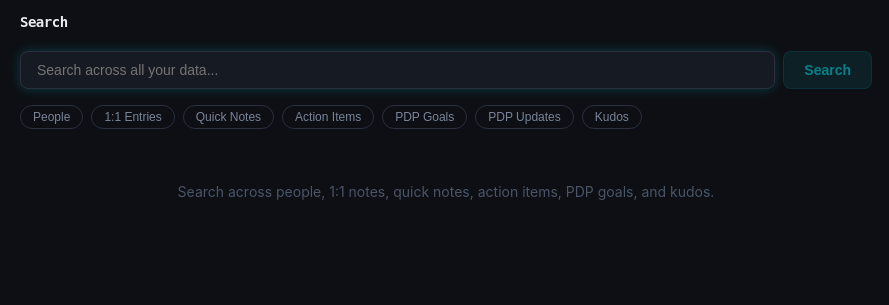
Scenario: SearchPage › should perform search on form submit
Type "john" into the field with test id "search-input" at (398, 70), box [20, 51, 775, 89]
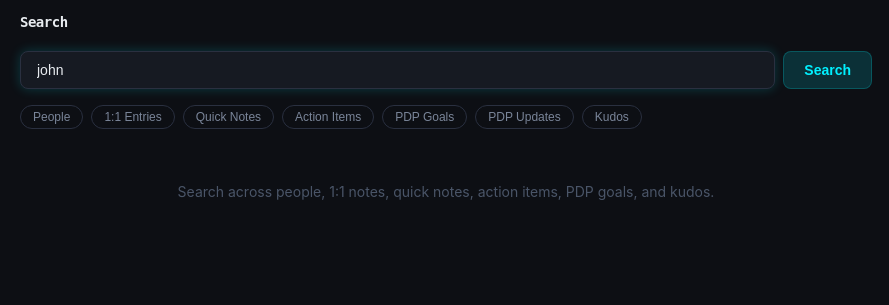
Submit the form with test id "search-input", box [20, 51, 872, 89]
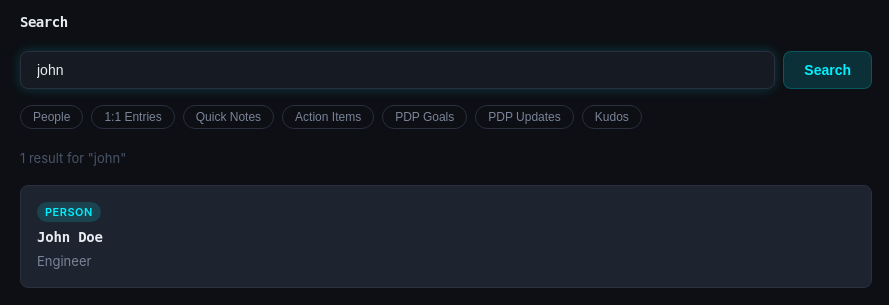
Expected: the text with test id "search-results-summary" reads "1 result for \"john\"", [20, 150, 126, 166]
